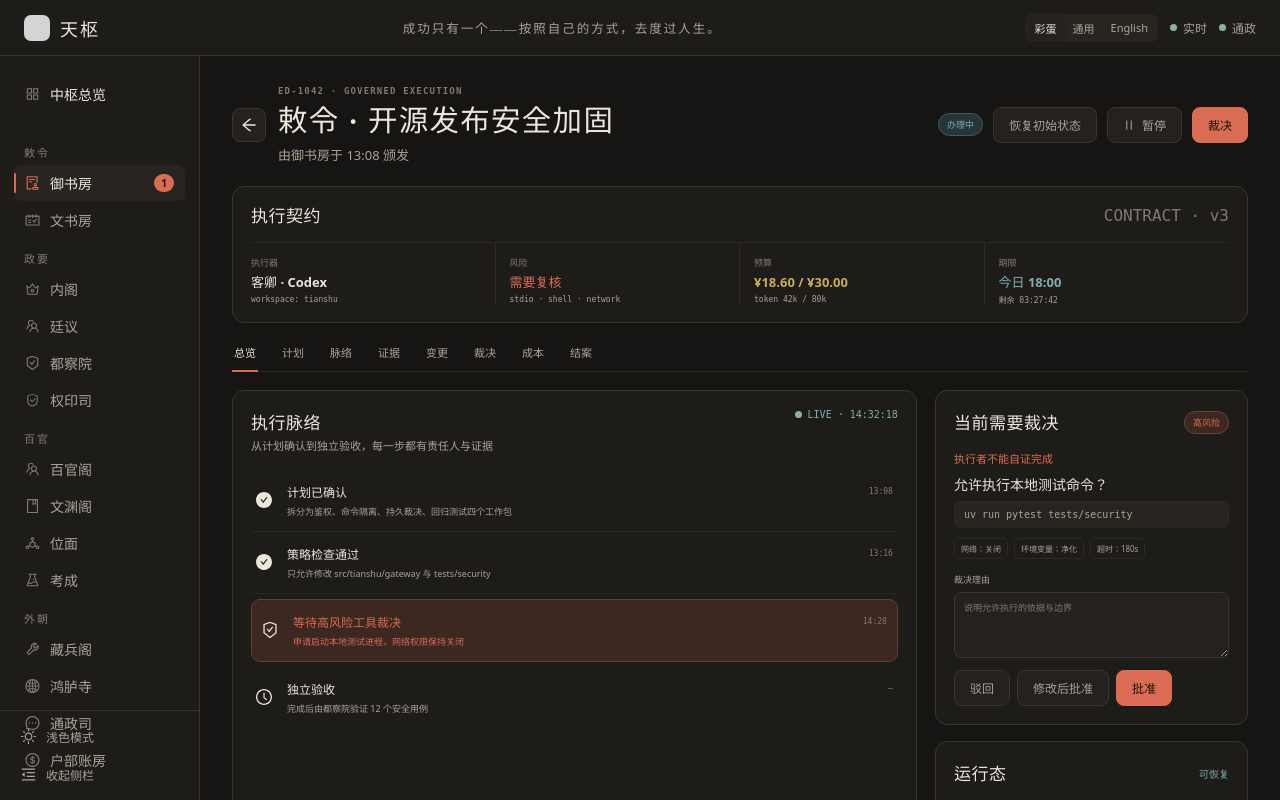
it: Tianshu Agent OS approval prototype › can restore an interactive decision screen to its initial local state
Type "仅运行既定测试" into the text box labelled "裁决理由" at (1091, 625), box [954,592,1229,658]
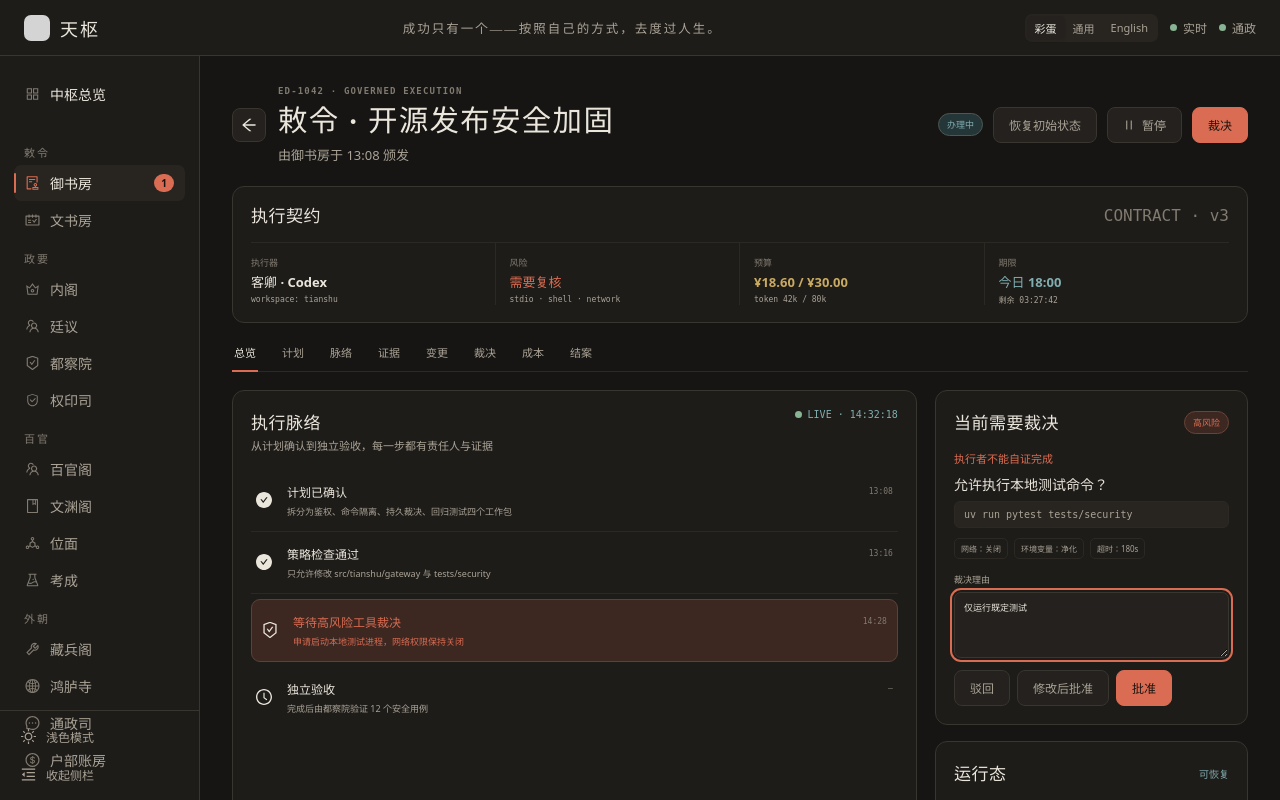
Click the button with aria-label "批准执行" at (1144, 688), box [1116,670,1172,706]
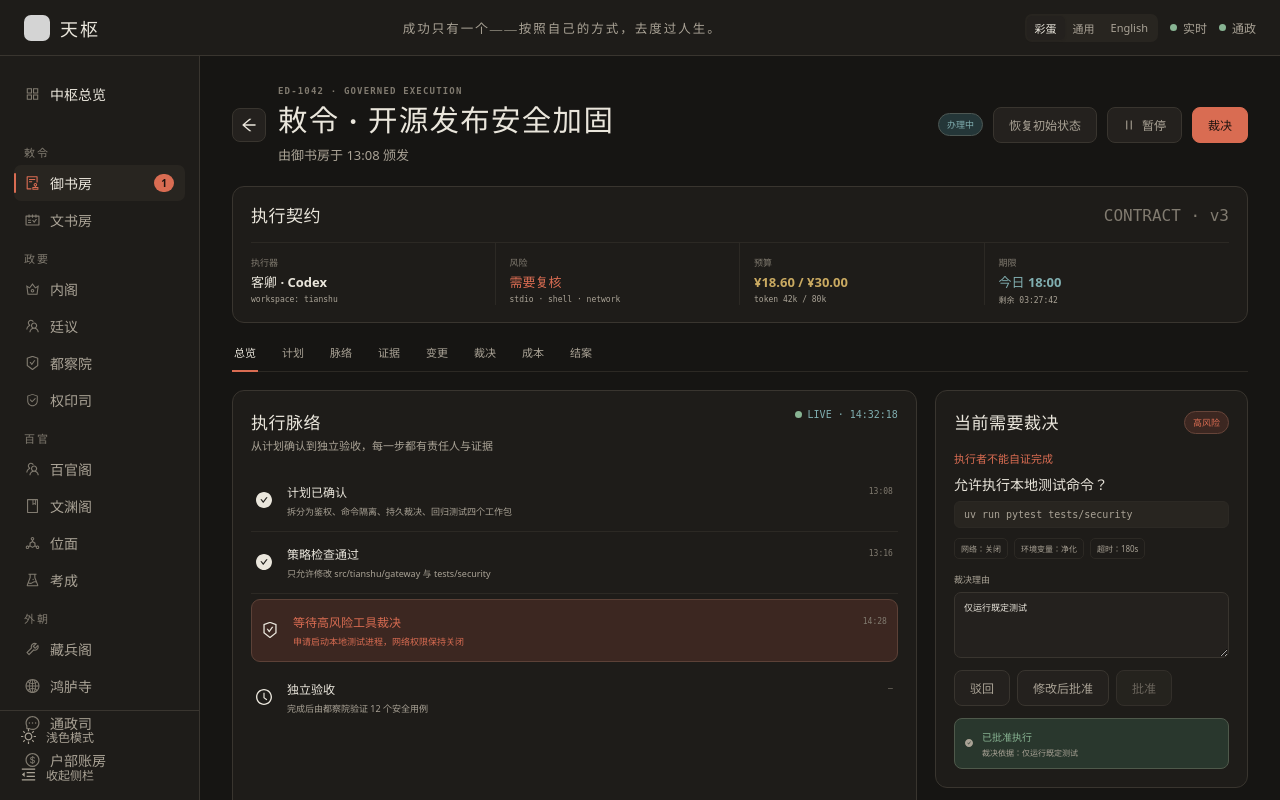
expect the message shows "已批准执行": met, box [982,730,1032,744]
Click the button "恢复初始状态" at (1045, 125), box [993,107,1097,143]
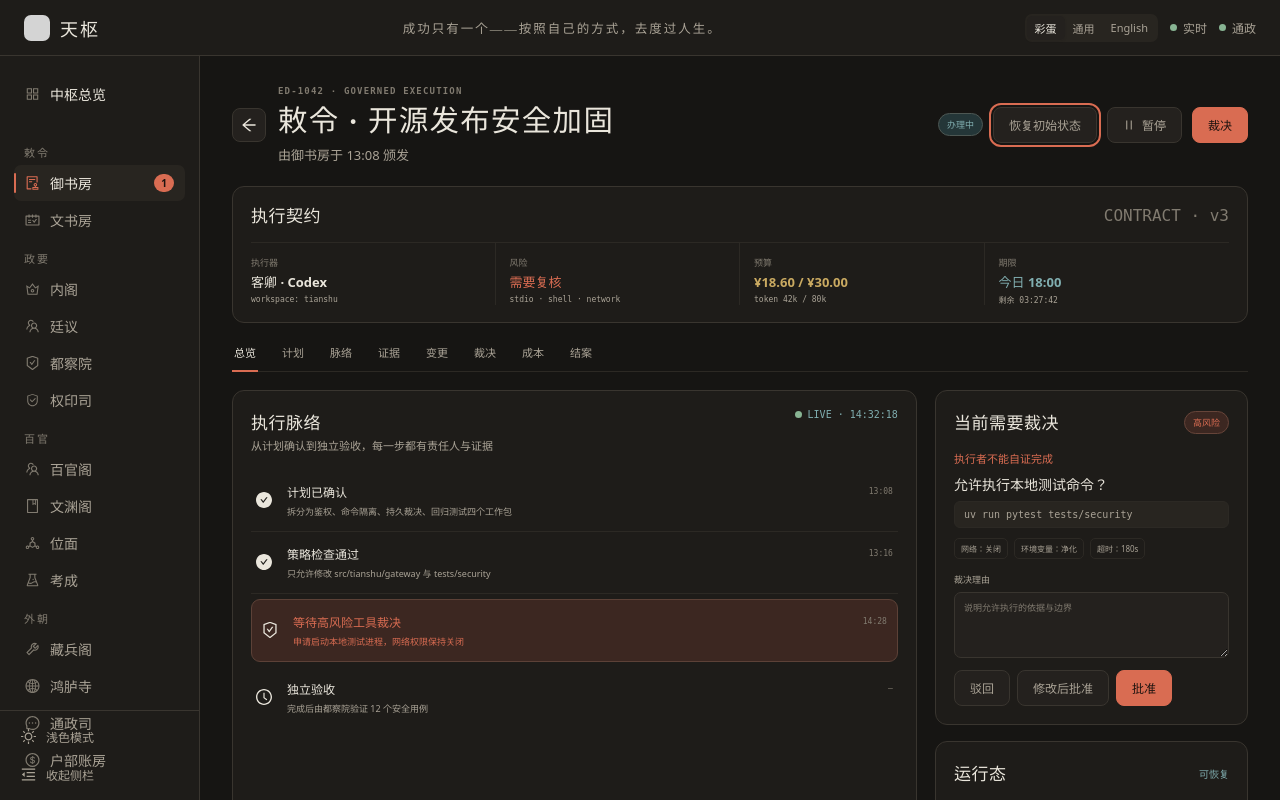
expect the message "已批准执行 裁决依据：仅运行既定测试" is gone: met
expect the text box labelled "裁决理由" is empty: met, box [954,592,1229,658]
expect the text box labelled "裁决理由" is enabled: met, box [954,592,1229,658]
